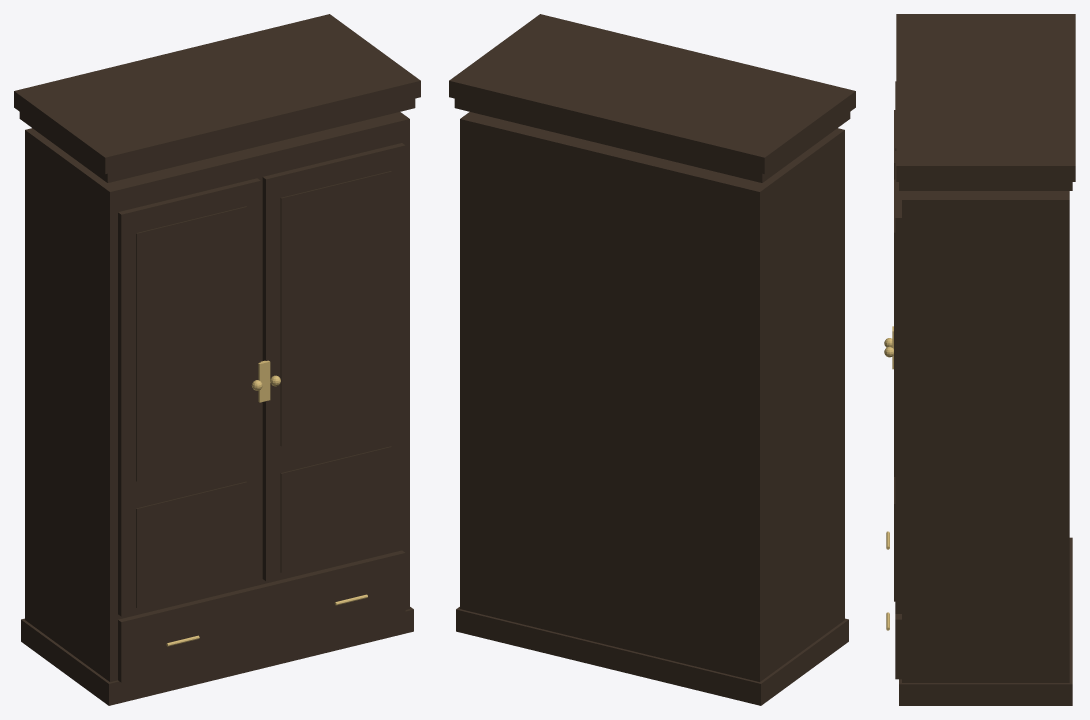
File: SM_Furniture_Wardrobe_01.glb
3 views of the same model, side by side, from view 1: azimuth 30°, elevation 25°; view 2: azimuth 150°, elevation 25°; view 3: azimuth 270°, elevation 25° (orthographic).
Parts seen in each view (by area): view 1: SM_Furniture_Wardrobe_01; view 2: SM_Furniture_Wardrobe_01; view 3: SM_Furniture_Wardrobe_01.
Boxes of the visible parts, <box> form: SM_Furniture_Wardrobe_01: <box>14,14,420,705</box>; SM_Furniture_Wardrobe_01: <box>449,14,855,705</box>; SM_Furniture_Wardrobe_01: <box>884,14,1075,705</box>.
Size of the model in its own units: 1.2 by 2 by 0.64.
